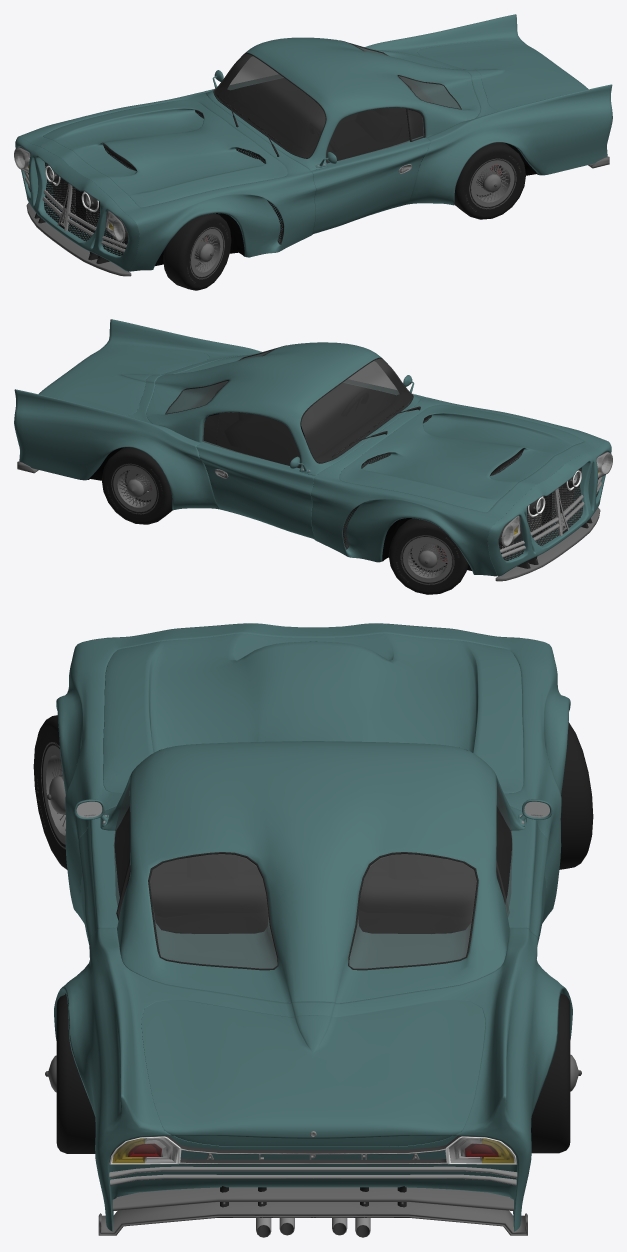
3 renders of one model, top to bottom at view 1: azimuth 30°, elevation 25°; view 2: azimuth 150°, elevation 25°; view 3: azimuth 270°, elevation 25°, orthographic. The views are drawn at different scales.
Parts seen in each view (by area): view 1: Hull, Props, Glass, Wheel, Wheel_4, Grid, Lights; view 2: Hull, Props, Glass, Wheel_4, Wheel, Grid, Lights; view 3: Hull, Props, Glass, Wheel, Wheel_4, Lights.
Part boxes in pixels (box(x1,y1,x2,y2)): Hull: box(15, 14, 612, 271); Props: box(24, 40, 609, 276); Glass: box(14, 45, 460, 241); Wheel: box(454, 142, 525, 219); Wheel_4: box(163, 213, 231, 290); Grid: box(28, 110, 283, 255); Lights: box(15, 146, 128, 241); Hull: box(14, 319, 611, 576); Props: box(17, 345, 602, 581); Glass: box(166, 350, 612, 546); Wheel_4: box(388, 518, 468, 594); Wheel: box(101, 447, 172, 524); Grid: box(343, 415, 598, 560); Lights: box(498, 451, 611, 546); Hull: box(54, 623, 572, 1231); Props: box(65, 750, 549, 1237); Glass: box(112, 783, 514, 1163); Wheel: box(45, 993, 581, 1153); Wheel_4: box(33, 715, 593, 869); Lights: box(109, 1135, 517, 1164).
Bounding box in the file's own units: 1067 × 282 × 512.
Materials: 6 (5 with a texture image).
